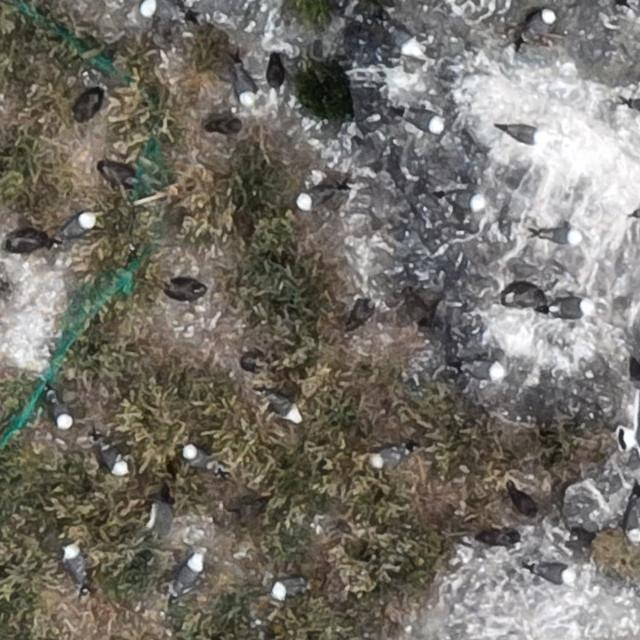umineko: (387, 27, 425, 57), (176, 554, 205, 593), (142, 0, 190, 21), (499, 124, 544, 145), (525, 9, 555, 37), (403, 110, 441, 132), (268, 395, 300, 421), (101, 443, 128, 473), (64, 546, 85, 584), (549, 298, 591, 317), (59, 214, 92, 238), (533, 564, 571, 584), (448, 192, 488, 211), (185, 446, 215, 470), (369, 446, 404, 466), (465, 360, 501, 379), (235, 70, 253, 106), (274, 578, 306, 598), (539, 228, 578, 244), (51, 398, 71, 429), (298, 190, 329, 210)
